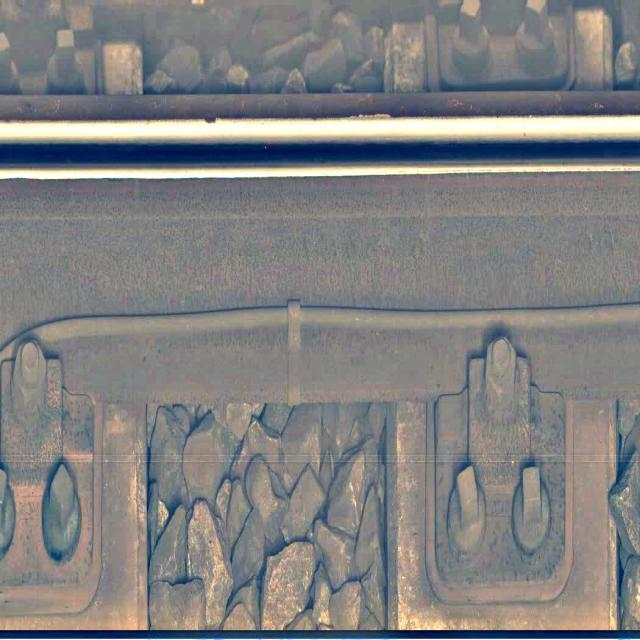Good Fasteners: (430, 338, 566, 601), (0, 343, 94, 590)
